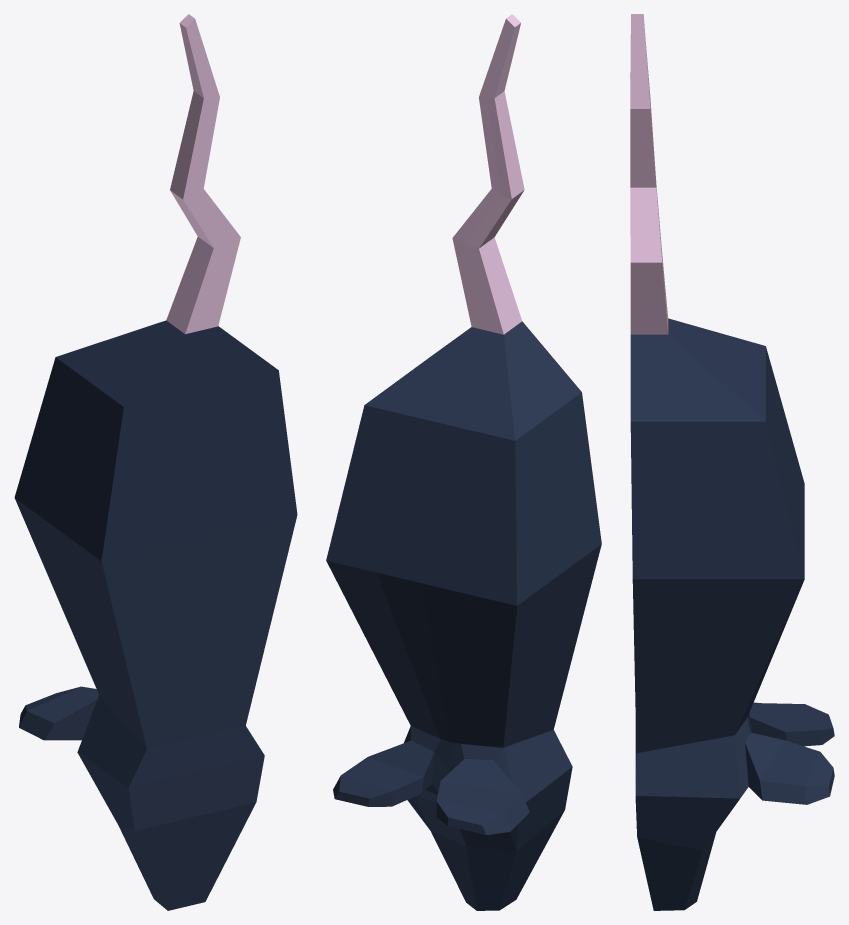
File: Rat4.fbx
3 views of the same model, side by side, from view 1: azimuth 30°, elevation 25°; view 2: azimuth 150°, elevation 25°; view 3: azimuth 270°, elevation 25° (orthographic). The views are drawn at different scales.
Parts seen in each view (by area): view 1: Cube.012; view 2: Cube.012; view 3: Cube.012.
Part boxes in pixels (x1,y1,x2,y2): Cube.012: (14,14,297,910); Cube.012: (326,14,601,910); Cube.012: (630,14,834,910).
Size of the model in its own units: 59.94 by 262 by 54.79.
